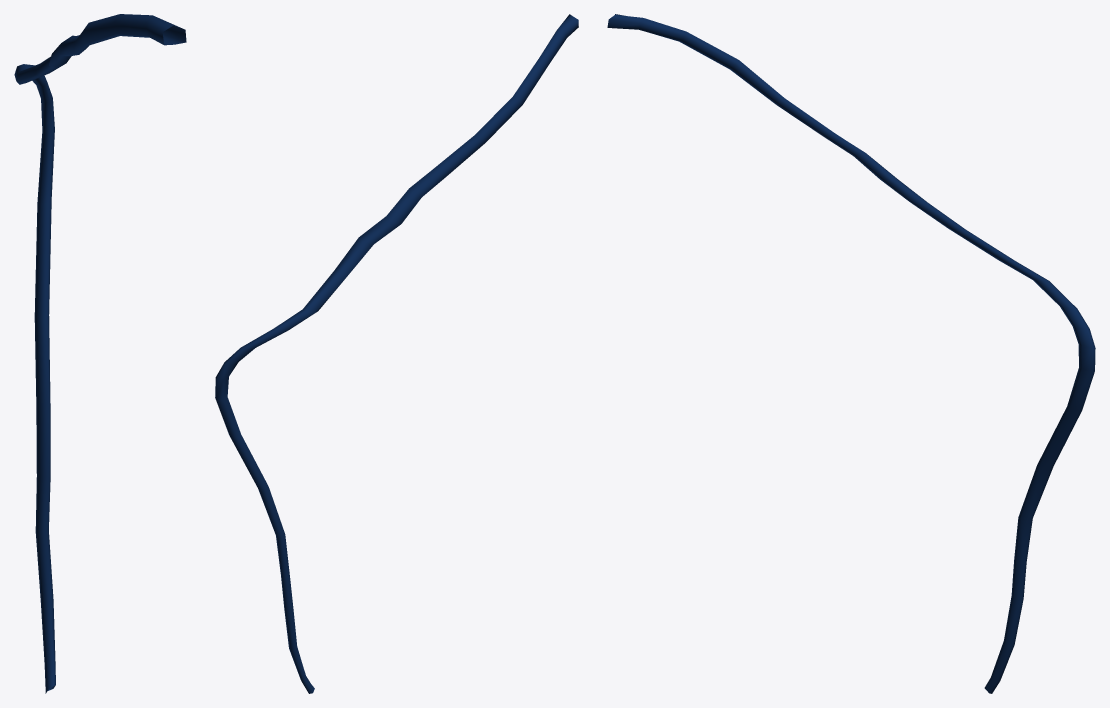
The model's file is L vena collateralis ulnaris.fbx.
3 renders of one model, left to right at view 1: azimuth 30°, elevation 25°; view 2: azimuth 150°, elevation 25°; view 3: azimuth 270°, elevation 25°, orthographic. The views are drawn at different scales.
Visible parts, largest first — view 1: L vena collateralis ulnaris, L vena collateralis ulnaris low; view 2: L vena collateralis ulnaris, L vena collateralis ulnaris low; view 3: L vena collateralis ulnaris, L vena collateralis ulnaris low.
Part boxes in pixels (x1=…): L vena collateralis ulnaris: x1=14, y1=14, x2=186, y2=693; L vena collateralis ulnaris low: x1=15, y1=14, x2=184, y2=686; L vena collateralis ulnaris: x1=215, y1=14, x2=578, y2=693; L vena collateralis ulnaris low: x1=216, y1=18, x2=577, y2=688; L vena collateralis ulnaris: x1=607, y1=14, x2=1095, y2=693; L vena collateralis ulnaris low: x1=615, y1=18, x2=1094, y2=691.
Bounding box in the file's own units: 3.87 × 14.51 × 10.18.
